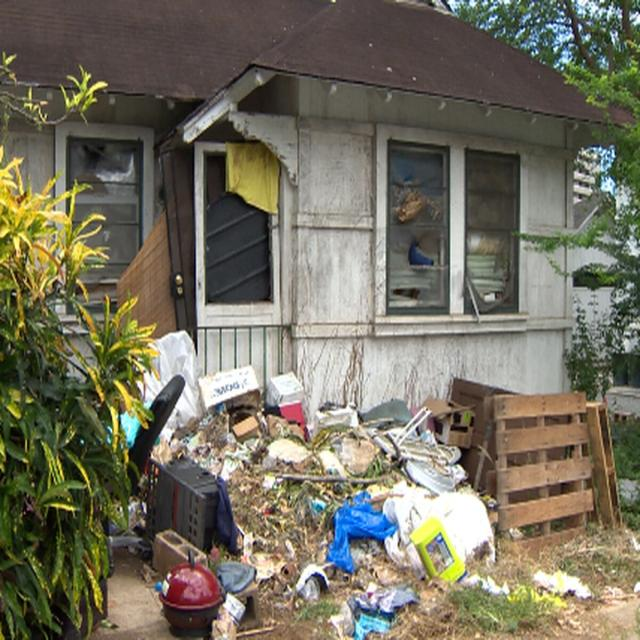House: (0, 0, 638, 497)
